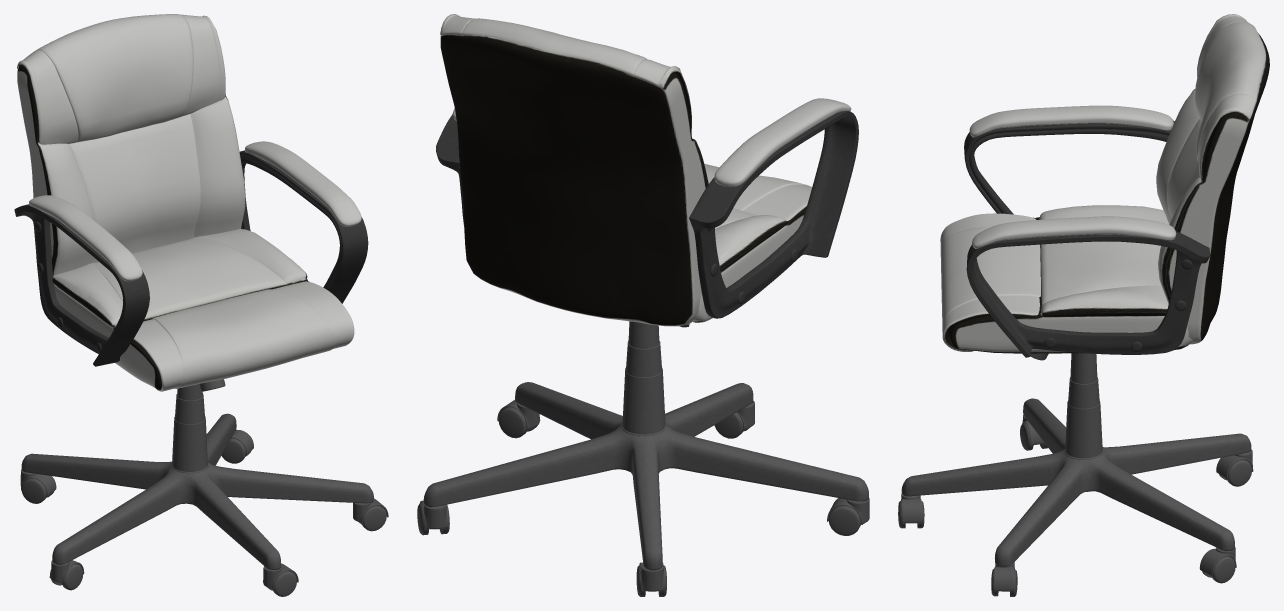
File: abo-leather-padded-white-chair-v1.glb
3 views of the same model, side by side, from view 1: azimuth 30°, elevation 25°; view 2: azimuth 150°, elevation 25°; view 3: azimuth 270°, elevation 25° (orthographic). The views are drawn at different scales.
Parts seen in each view (by area): view 1: Root; view 2: Root; view 3: Root.
Boxes of the visible parts, x1=… form: Root: x1=14, y1=14, x2=388, y2=596; Root: x1=417, y1=14, x2=869, y2=596; Root: x1=898, y1=14, x2=1269, y2=596.
Bounding box in the file's own units: 0.7385 × 1 × 0.717.
Materials: 1 (1 with a texture image).
